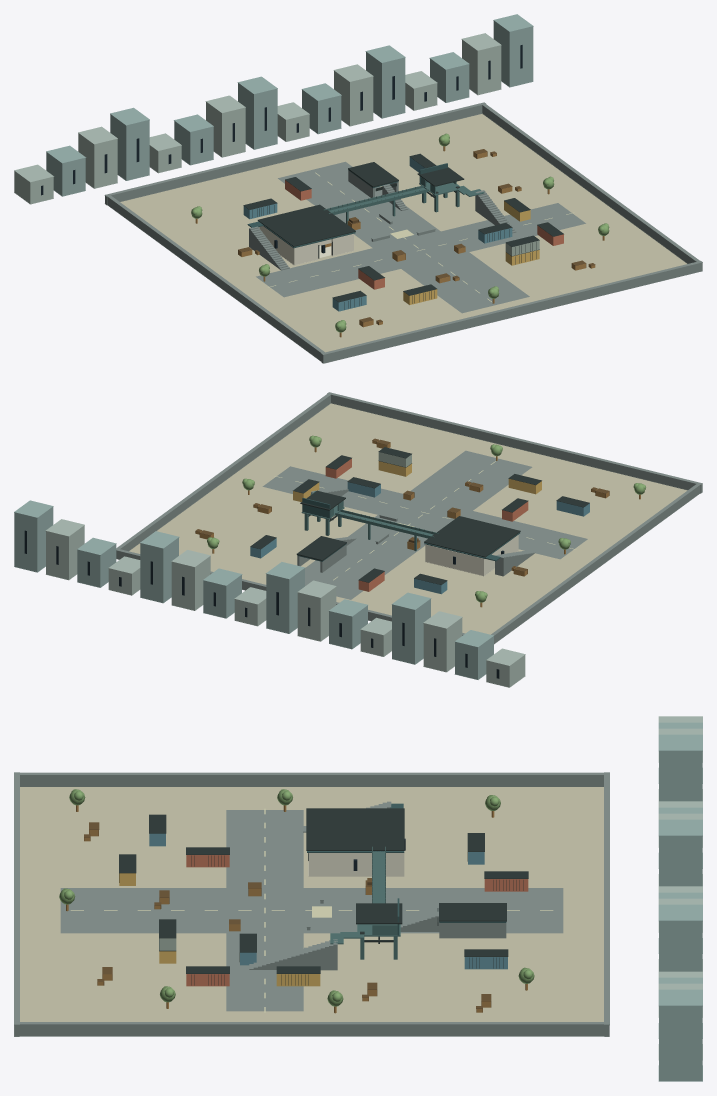
The model's file is blockyard.glb.
The picture shows the model from 3 angles, top to bottom: view 1: azimuth 30°, elevation 25°; view 2: azimuth 150°, elevation 25°; view 3: azimuth 270°, elevation 25°; orthographic projection. The views are drawn at different scales.
Parts seen in each view (by area): view 1: ground, concrete, distant, asphalt, distant2, rooftrim, trim, metal, plaster, container:blue, wood, container:tan (+4 smaller); view 2: ground, distant, asphalt, distant2, concrete, rooftrim, trim, plaster, metal, container:blue, foliage, container:tan (+5 smaller); view 3: ground, asphalt, concrete, distant, rooftrim, trim, distant2, plaster, metal, container:rust, foliage, container:blue (+4 smaller).
Boxes of the visible parts, x1,y1,x2,y2 form: ground: (120,114,686,352); concrete: (104,102,702,363); distant: (46,14,533,196); asphalt: (256,161,585,313); distant2: (14,33,501,204); rooftrim: (257,162,464,246); trim: (243,153,563,309); metal: (323,177,484,224); plaster: (259,226,353,265); container:blue: (243,157,512,311); wood: (195,146,604,337); container:tan: (403,201,539,304); ground: (129,403,687,634); distant: (14,500,493,679); asphalt: (262,450,587,599); distant2: (45,519,525,687); concrete: (116,392,702,644); rooftrim: (296,490,520,560); trim: (250,447,589,584); plaster: (425,535,518,576); metal: (301,491,438,551); container:blue: (250,482,589,594); foliage: (207,435,645,602); container:tan: (293,461,541,501); ground: (20,787,603,1021); asphalt: (60,810,563,1011); concrete: (14,772,609,1036); distant: (658,722,702,1081); rooftrim: (306,808,506,924); trim: (119,814,528,985); distant2: (658,716,702,1059); plaster: (308,851,404,876); metal: (330,846,400,959); container:rust: (186,855,528,986); foliage: (59,789,534,1006); container:blue: (149,833,507,969).
Bounding box in the file's own units: 236 × 25 × 205.
